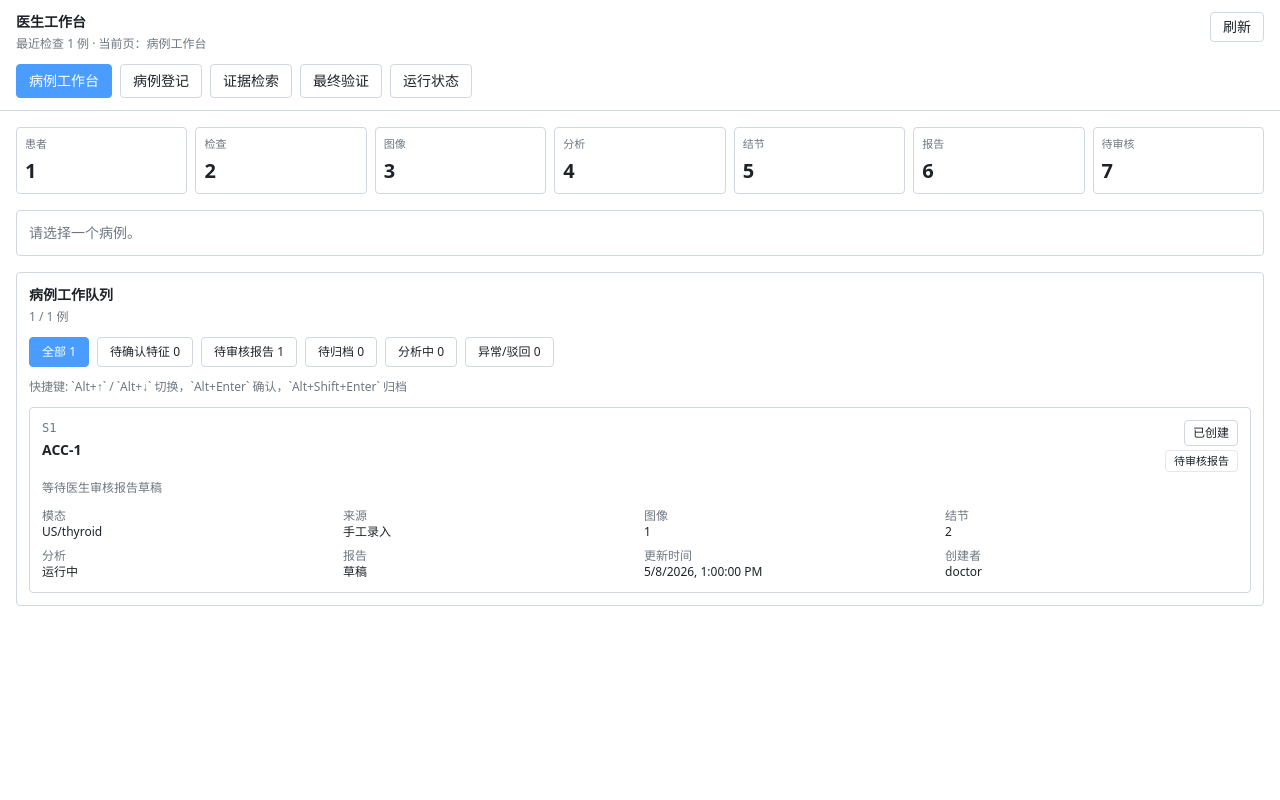
Test: MedicalPanel › confirms a report draft from study detail
Expected: the heading "ACC-1" is shown, left=42, top=440, right=82, bottom=460
Click the button "ACC-1".
click(640, 500)  # box left=29, top=406, right=1251, bottom=593
(page scrolled)
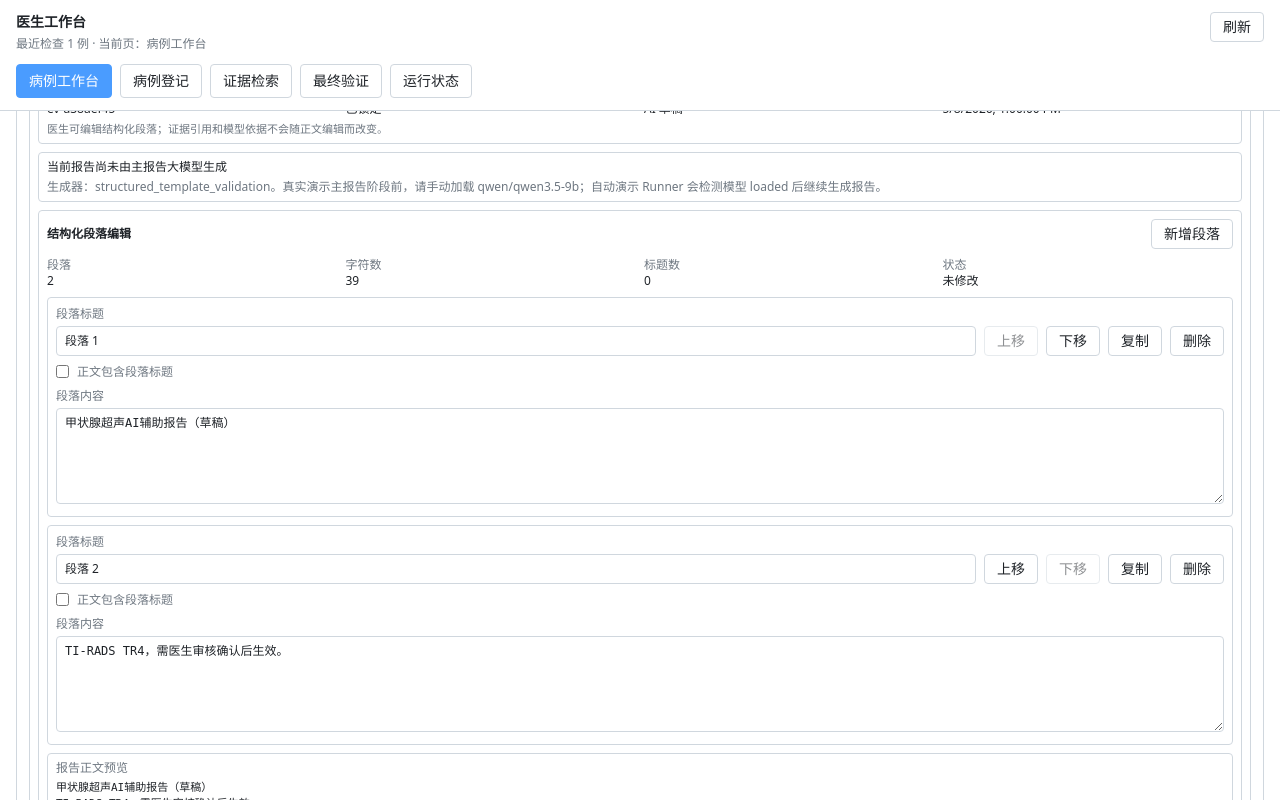
Result: the 1st text box "甲状腺超声AI辅助报告" is shown
Result: the text "结构化段落编辑" is shown at left=47, top=226, right=131, bottom=242
Replace the text in the text box named "段落内容 1" with "医生修订后的甲状腺超声报告" at (640, 456), box left=56, top=408, right=1224, bottom=504
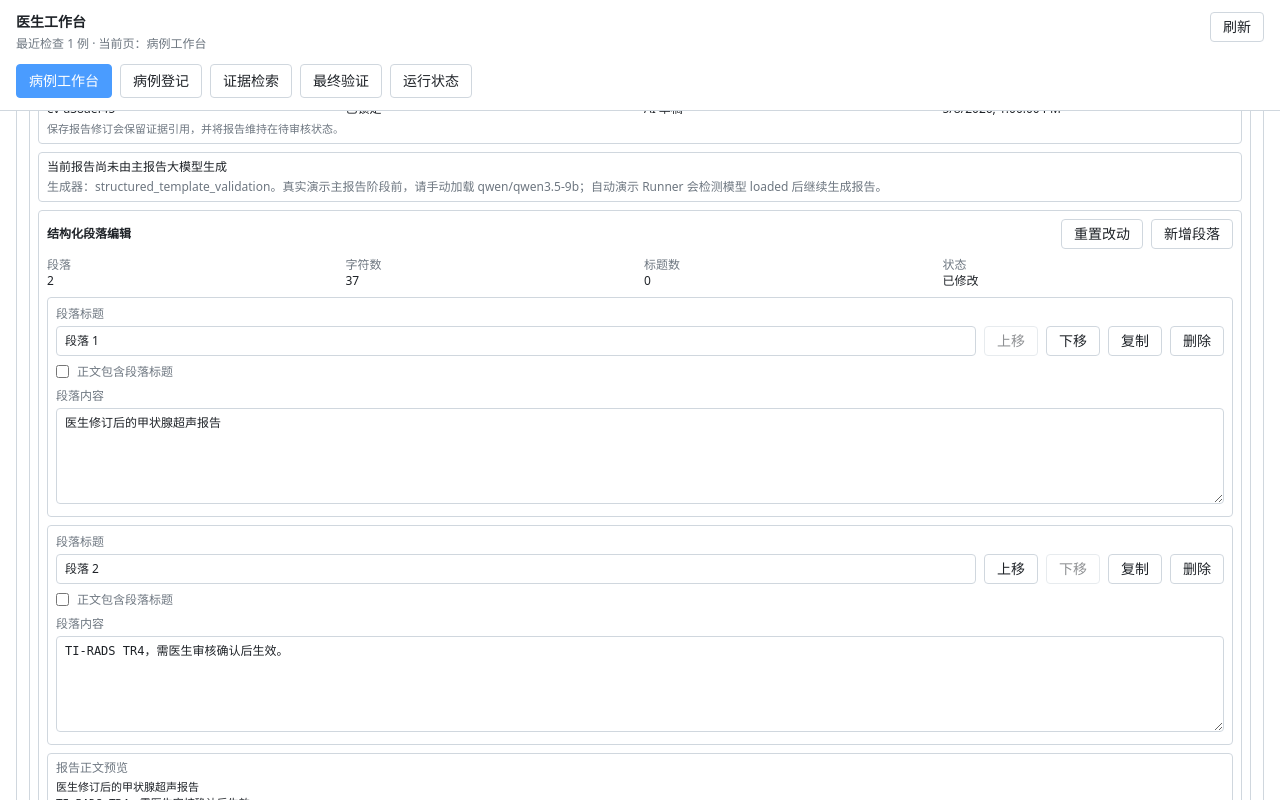
Clear the text box named "段落内容 2" at (640, 684), box left=56, top=636, right=1224, bottom=732
(page scrolled)
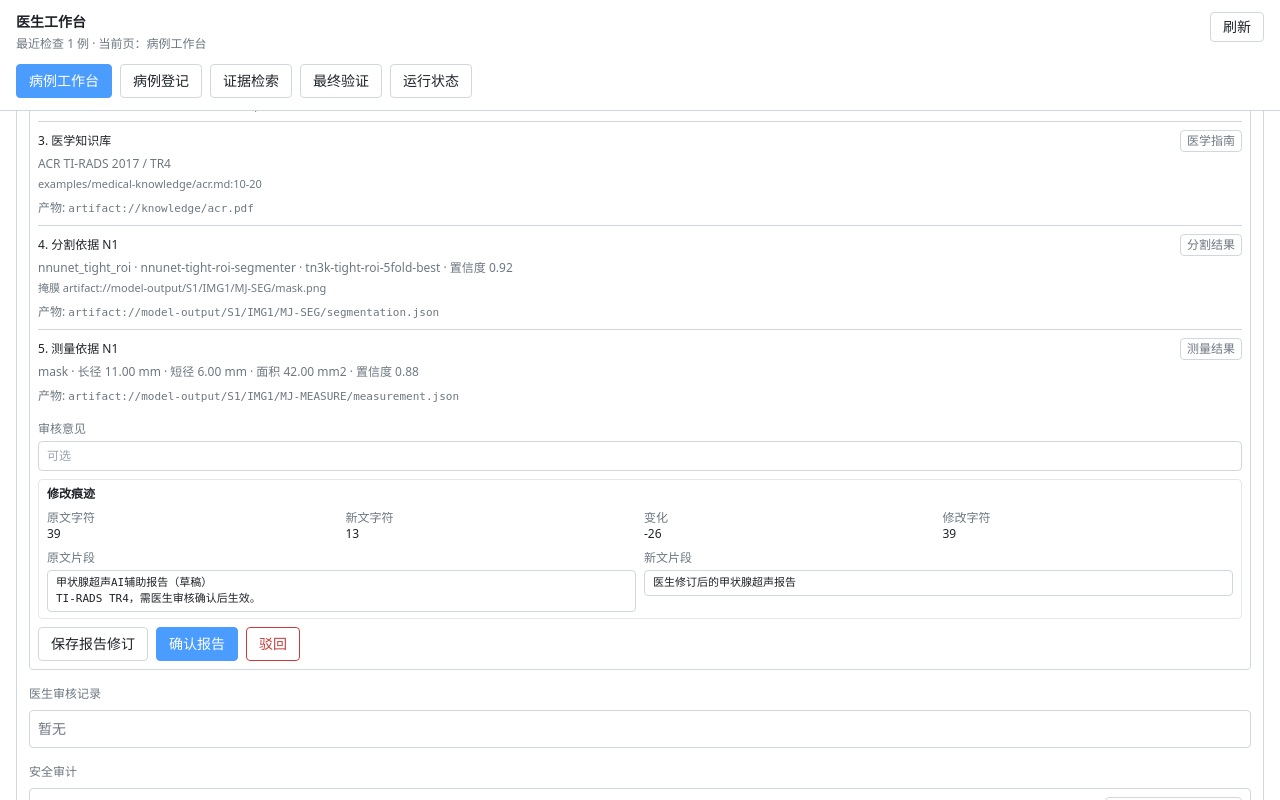
Type "医生已核对图像与证据" into the field labelled "审核意见".
click(640, 456); type("医生已核对图像与证据")  # box left=38, top=440, right=1242, bottom=470
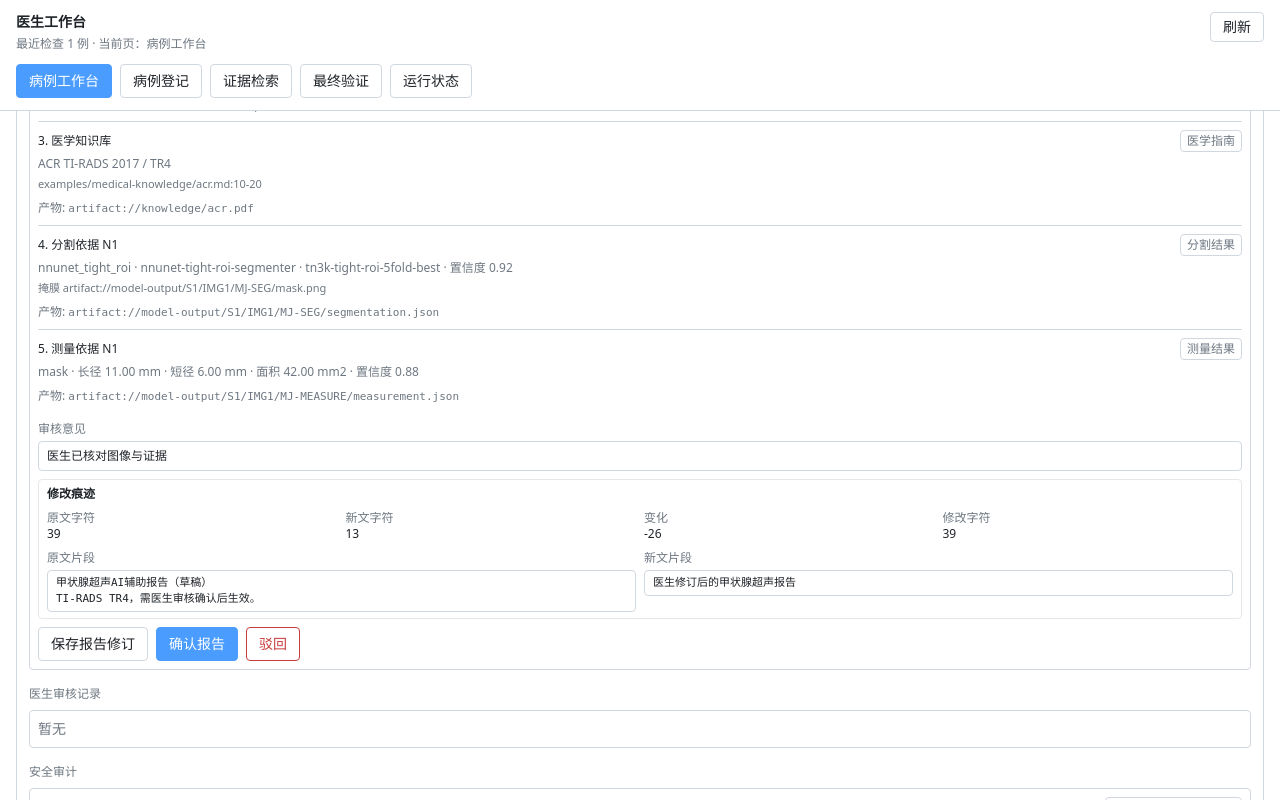
Result: the text "修改痕迹" is shown at left=47, top=484, right=95, bottom=502
Result: the text "原文片段" is shown at left=47, top=548, right=95, bottom=566
Result: the text "新文片段" is shown at left=644, top=548, right=692, bottom=566
Click the button "确认报告".
click(197, 644)  # box left=156, top=626, right=238, bottom=660
(page scrolled)
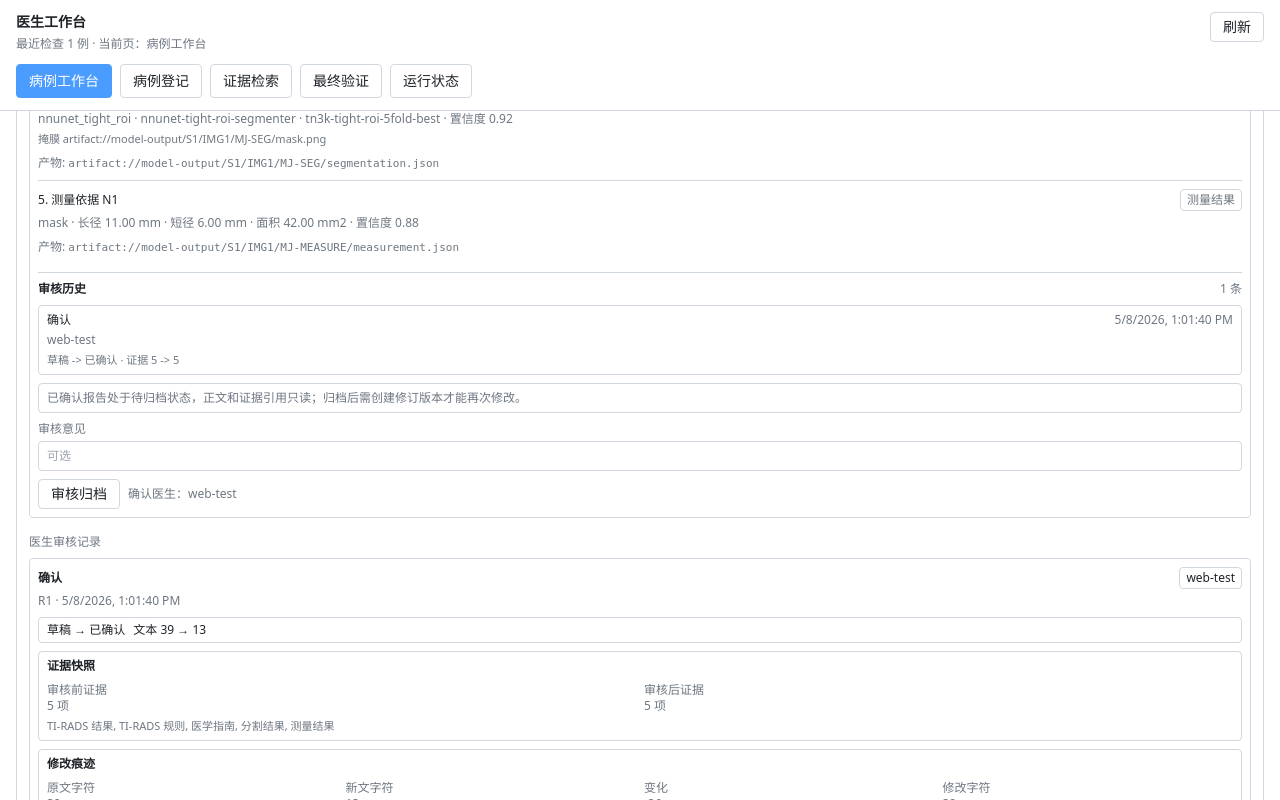
Result: the text "审核历史" is shown at left=38, top=280, right=86, bottom=296
Result: the text "证据快照" is shown at left=47, top=656, right=95, bottom=674
Result: the button "审核归档" is shown at left=38, top=478, right=120, bottom=508
Type "归档" into the field labelled "审核意见".
click(640, 456); type("归档")  # box left=38, top=440, right=1242, bottom=470
Click the button "审核归档".
click(79, 494)  # box left=38, top=478, right=120, bottom=508
(page scrolled)
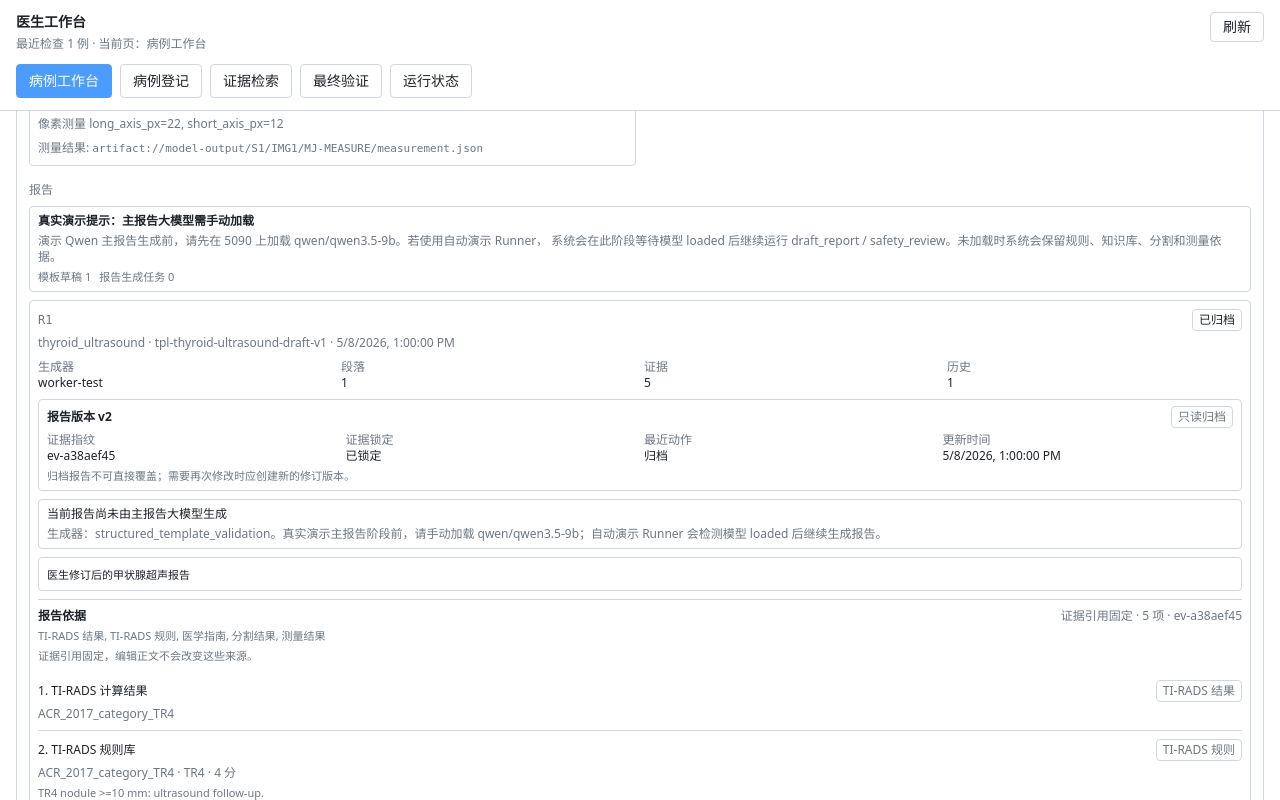
Result: the text "已归档" is shown at left=1192, top=308, right=1242, bottom=330
Result: the text "只读归档" is shown at left=1171, top=406, right=1233, bottom=428
Result: the text "归档" is shown at left=644, top=446, right=668, bottom=464
